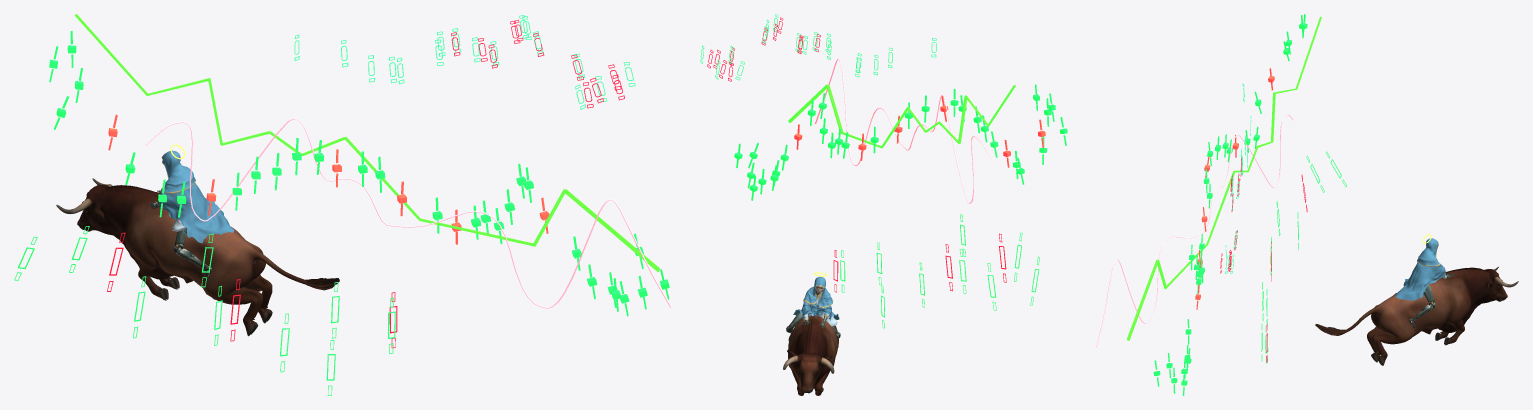
Rendered from ourlady_rider6.glb.
3 renders of one model, left to right at view 1: azimuth 30°, elevation 25°; view 2: azimuth 150°, elevation 25°; view 3: azimuth 270°, elevation 25°, orthographic. The views are drawn at different scales.
Parts seen in each view (by area): view 1: Object_55, pose.001, Line_127, RoundLine_168, lady.002; view 2: Object_55, Line_127, pose.001, RoundLine_168, lady.002; view 3: Object_55, pose.001, Line_127, RoundLine_168.
Boxes of the visible parts, <box> form: Object_55: <box>56,178,339,336</box>; pose.001: <box>159,150,234,243</box>; Line_127: <box>75,14,659,271</box>; RoundLine_168: <box>145,118,671,308</box>; lady.002: <box>150,190,212,281</box>; Object_55: <box>783,315,838,395</box>; Line_127: <box>788,84,1015,148</box>; pose.001: <box>793,276,839,320</box>; RoundLine_168: <box>815,58,993,203</box>; lady.002: <box>786,286,840,340</box>; Object_55: <box>1315,266,1518,365</box>; pose.001: <box>1395,238,1445,300</box>; Line_127: <box>1127,17,1321,340</box>; RoundLine_168: <box>1096,114,1293,347</box>.
Size of the model in its own units: 6.4 by 4.63 by 6.44.
17 materials, 3 textured.
